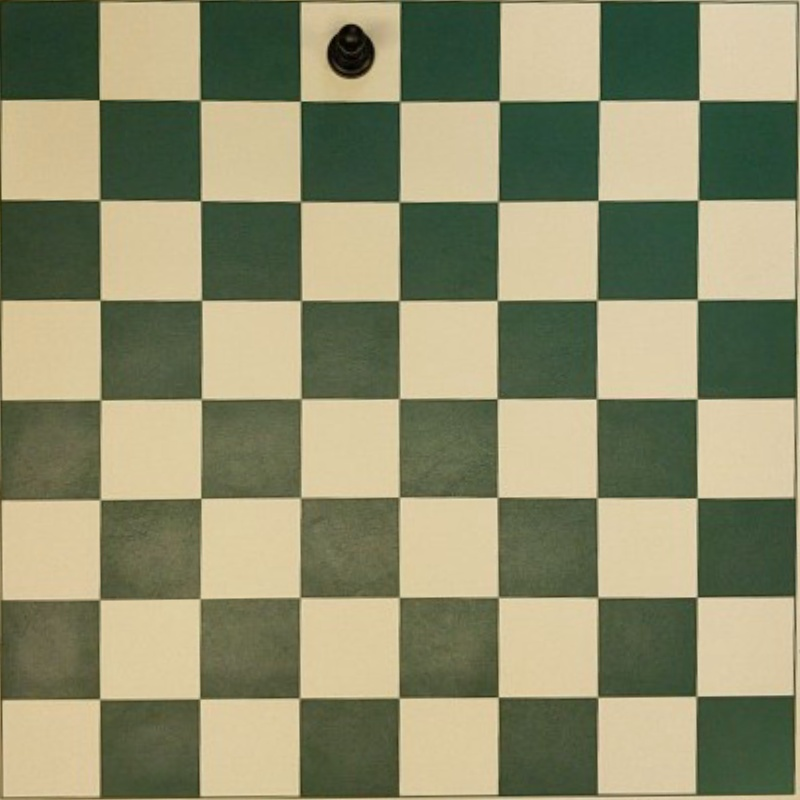black-pawn: (327, 23, 374, 77)
